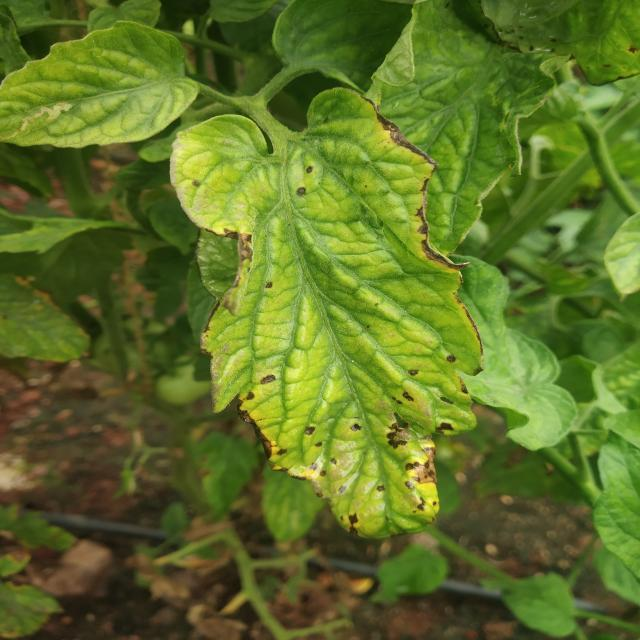Tomato mosaic virus leaf: (163, 90, 490, 545)
